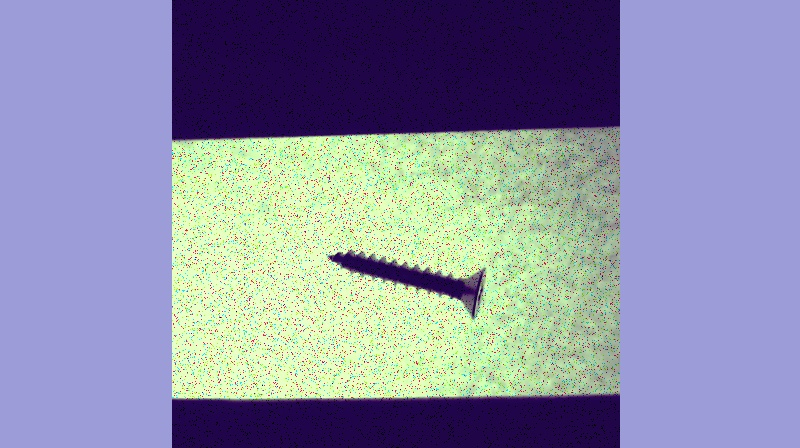S001: (325, 244, 488, 323)
